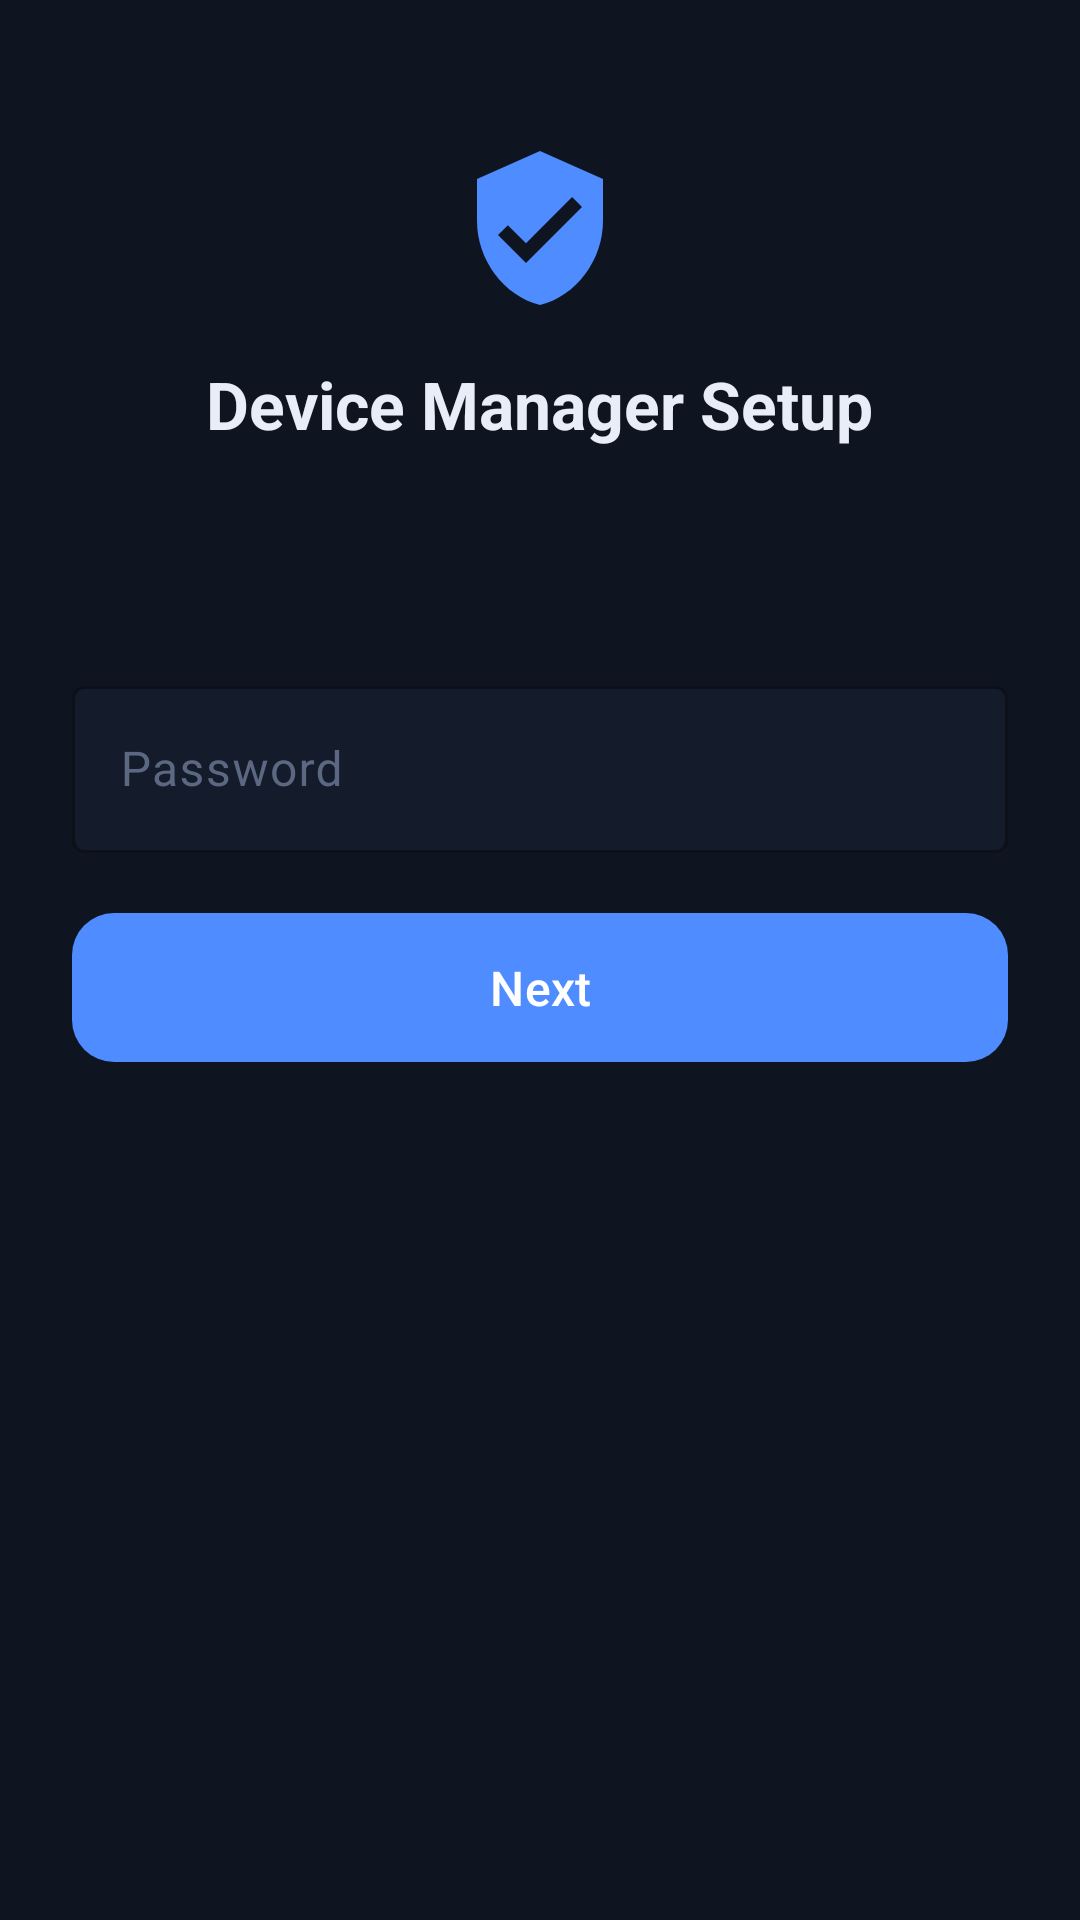

Icons on this 1080*1920 Android screen, each with the point to tap as [x,y]:
shield: [540,228]
